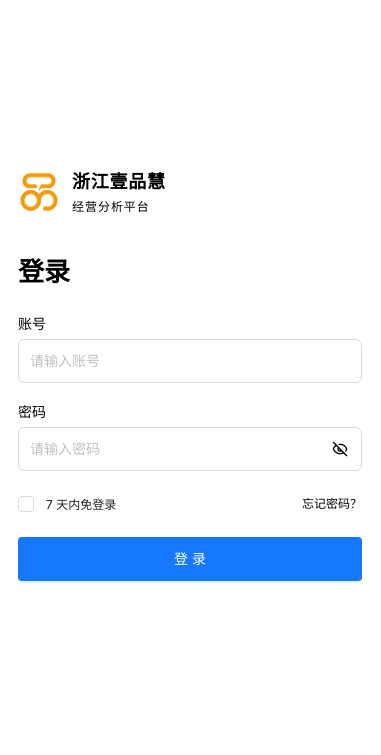
登录页图形验证码按需出现 › 登录返回 428 → 展开验证码框、拉图并提示失败次数过多
The image size is (381, 755).
expect the field labelled "验证码" is not shown: met
Step 1. Type "alice" into the field labelled "账号" → [190, 360], box 18,338 -> 362,382
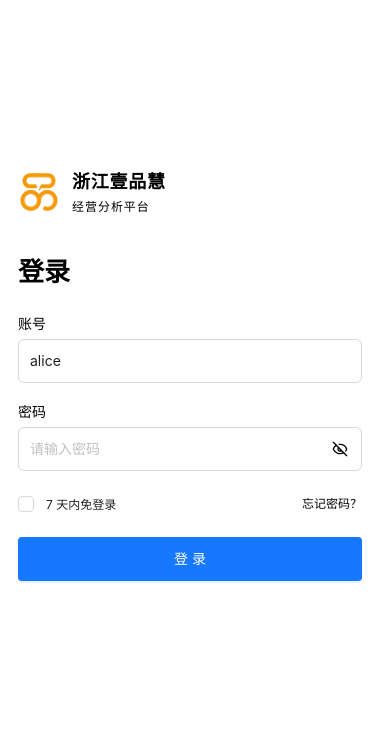
Step 2. Type "wrong" into the password field labelled "密码" → [190, 448], box 18,426 -> 362,470
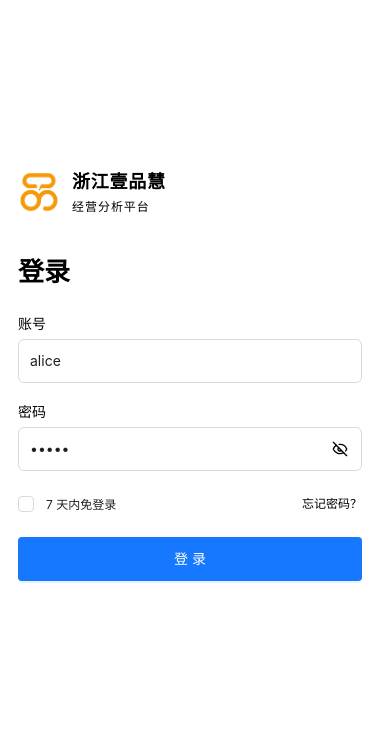
Step 3. Click the button "登 录" → [190, 558], box 18,536 -> 362,580
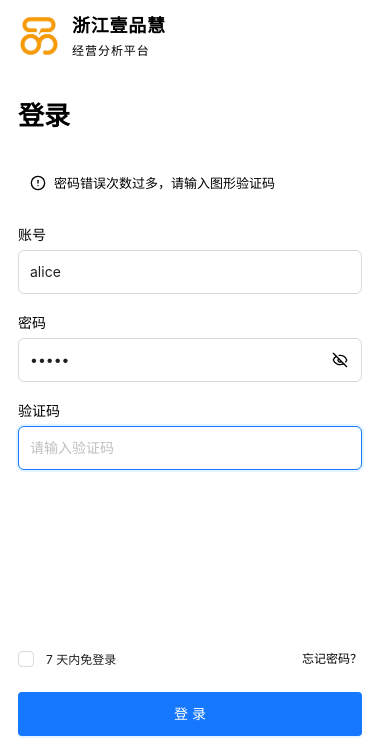
expect the field labelled "验证码" is shown: met, box 18,426 -> 362,470
expect the text "密码错误次数过多，请输入图形验证码" is shown: met, box 54,173 -> 275,194
